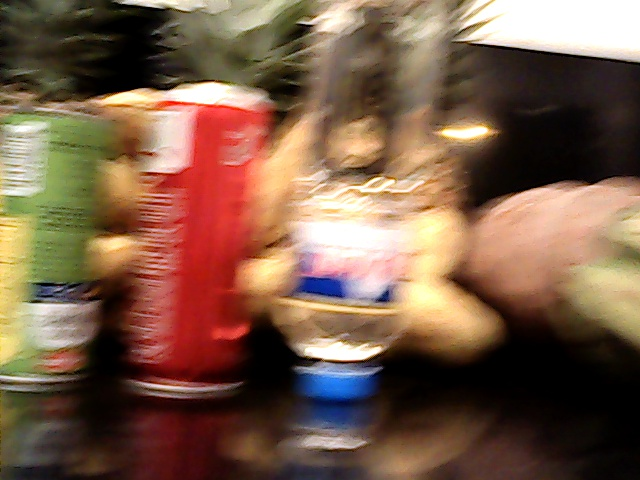Cola: (129, 73, 274, 405)
Pine Juice: (1, 110, 112, 407)
Summit Water: (278, 132, 418, 457)
